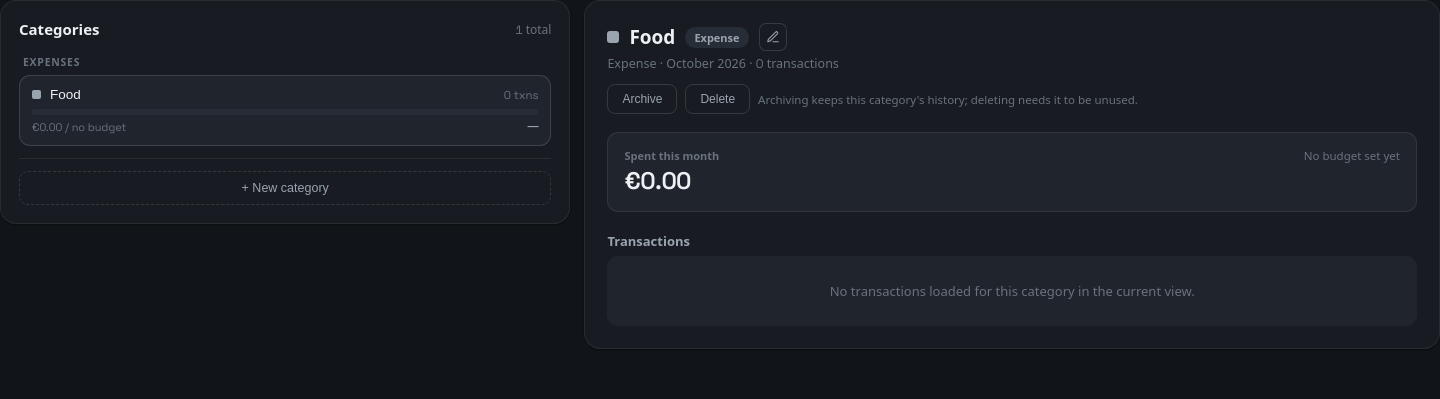
Test: CategoriesPage archiving and deleting › reports why a category could not be archived
Step 1. Click the button "Archive" → [642, 99], box [607, 84, 677, 114]
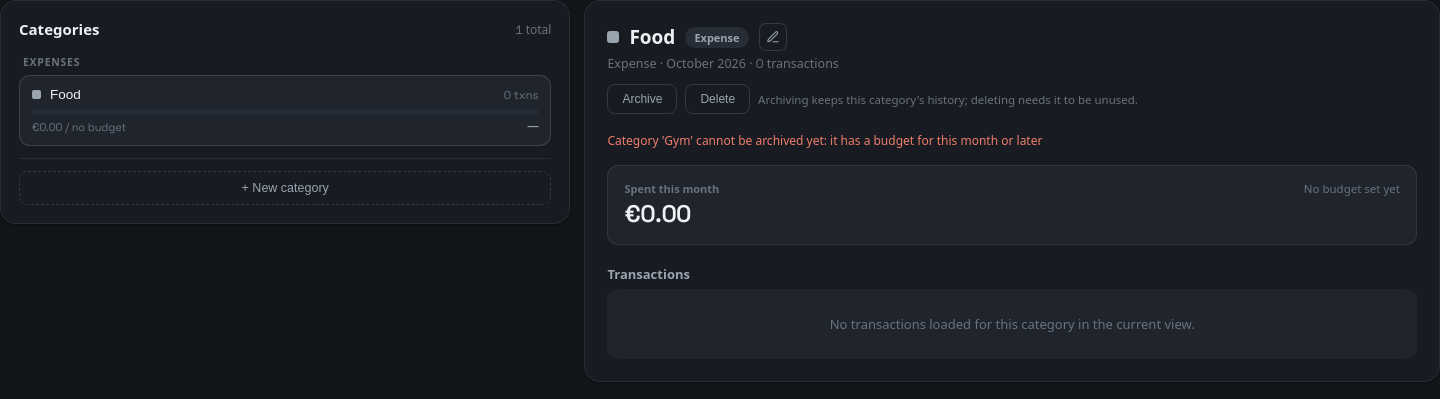
Now the text "Category 'Gym' cannot be archived yet: it has a budget for this month or later" is shown, box [607, 132, 1042, 149]
